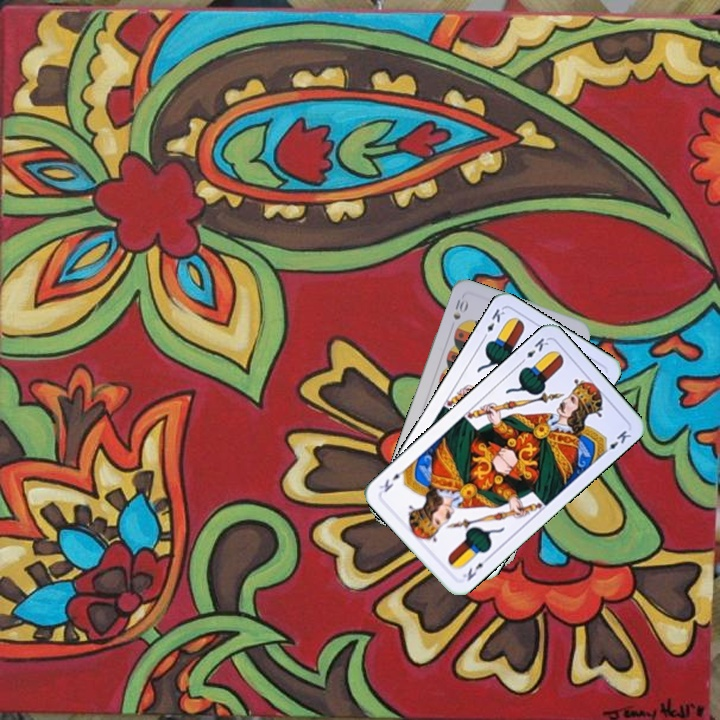EK: (516, 333, 551, 367), (478, 304, 507, 342), (459, 552, 492, 584)
S10: (449, 295, 469, 322)
